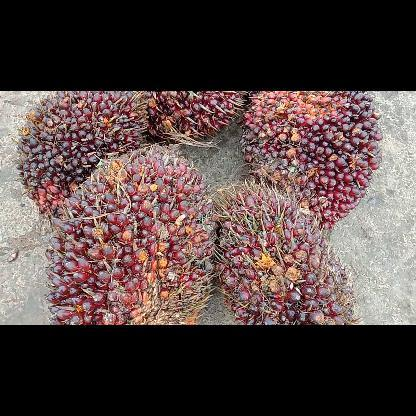Kurang masak: (44, 146, 216, 324), (212, 178, 362, 324), (238, 91, 384, 233), (11, 91, 149, 221), (140, 90, 250, 146)
